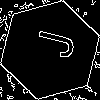J: (25, 25, 76, 60)
